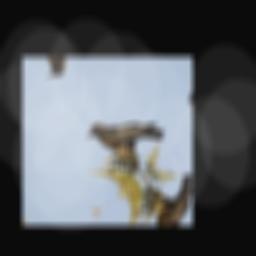Crow: (81, 91, 168, 179)
